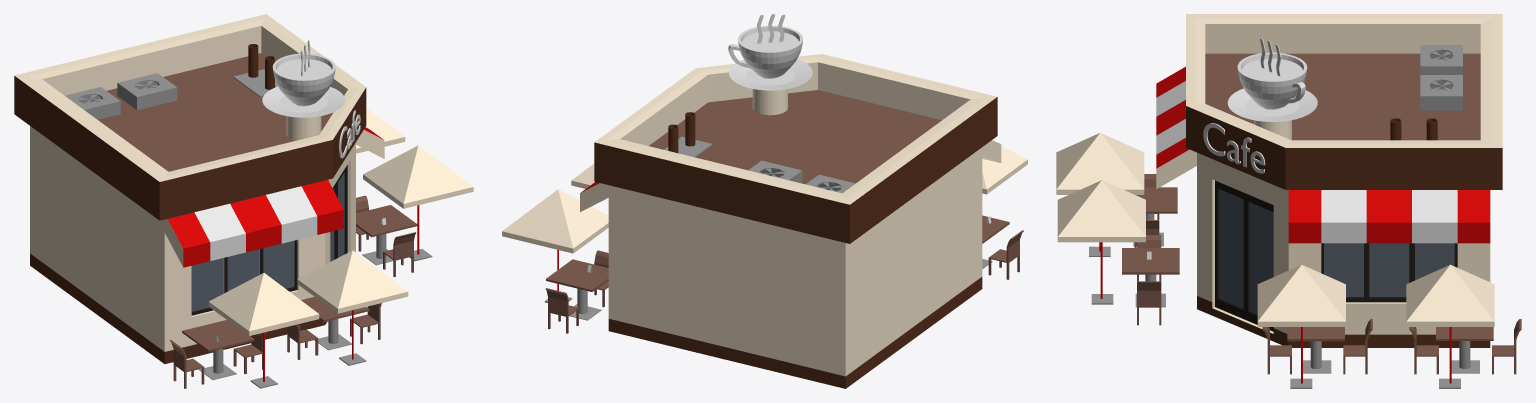
Rendered from cafe 4.fbx.
3 views of the same model, side by side, from view 1: azimuth 30°, elevation 25°; view 2: azimuth 150°, elevation 25°; view 3: azimuth 270°, elevation 25° (orthographic). The views are drawn at different scales.
Visible parts, largest first — view 1: Cafe, umbrella.001, umbrella, umbrella.002, table.001, table.003, table.002, umbrella.003, chair.004, chair.002, chair.001, chair (+1 smaller); view 2: Cafe, umbrella.003, table, umbrella.001, chair.006, chair.002, table.001; view 3: Cafe, umbrella, umbrella.003, umbrella.002, umbrella.001, table.002, table.003, table, table.001, chair.001, chair.005, chair.006 (+2 smaller).
Part boxes in pixels (x1=…): Cafe: x1=14, y1=14, x2=384, y2=363; umbrella.001: x1=208, y1=273, x2=319, y2=388; umbrella: x1=297, y1=250, x2=408, y2=365; umbrella.002: x1=363, y1=145, x2=473, y2=261; table.001: x1=182, y1=320, x2=254, y2=379; table.003: x1=356, y1=205, x2=417, y2=265; table.002: x1=301, y1=297, x2=369, y2=350; umbrella.003: x1=356, y1=108, x2=405, y2=153; chair.004: x1=383, y1=232, x2=415, y2=277; chair.002: x1=169, y1=340, x2=204, y2=388; chair.001: x1=350, y1=303, x2=381, y2=344; chair: x1=287, y1=324, x2=318, y2=359; Cafe: x1=580, y1=14, x2=1001, y2=388; umbrella.003: x1=502, y1=189, x2=608, y2=302; table: x1=546, y1=259, x2=608, y2=320; umbrella.001: x1=982, y1=145, x2=1027, y2=194; chair.006: x1=545, y1=288, x2=578, y2=333; chair.002: x1=988, y1=230, x2=1023, y2=279; table.001: x1=982, y1=215, x2=1009, y2=268; Cafe: x1=1156, y1=14, x2=1502, y2=347; umbrella: x1=1057, y1=180, x2=1145, y2=304; umbrella.003: x1=1406, y1=264, x2=1494, y2=388; umbrella.002: x1=1257, y1=264, x2=1345, y2=388; umbrella.001: x1=1056, y1=132, x2=1144, y2=256; table.002: x1=1122, y1=248, x2=1179, y2=307; table.003: x1=1287, y1=327, x2=1344, y2=373; table: x1=1436, y1=327, x2=1493, y2=373; table.001: x1=1133, y1=187, x2=1177, y2=246; chair.001: x1=1137, y1=281, x2=1161, y2=325; chair.005: x1=1343, y1=319, x2=1372, y2=374; chair.006: x1=1492, y1=319, x2=1521, y2=374.
Bounding box in the file's own units: 1161 × 808 × 1231.
